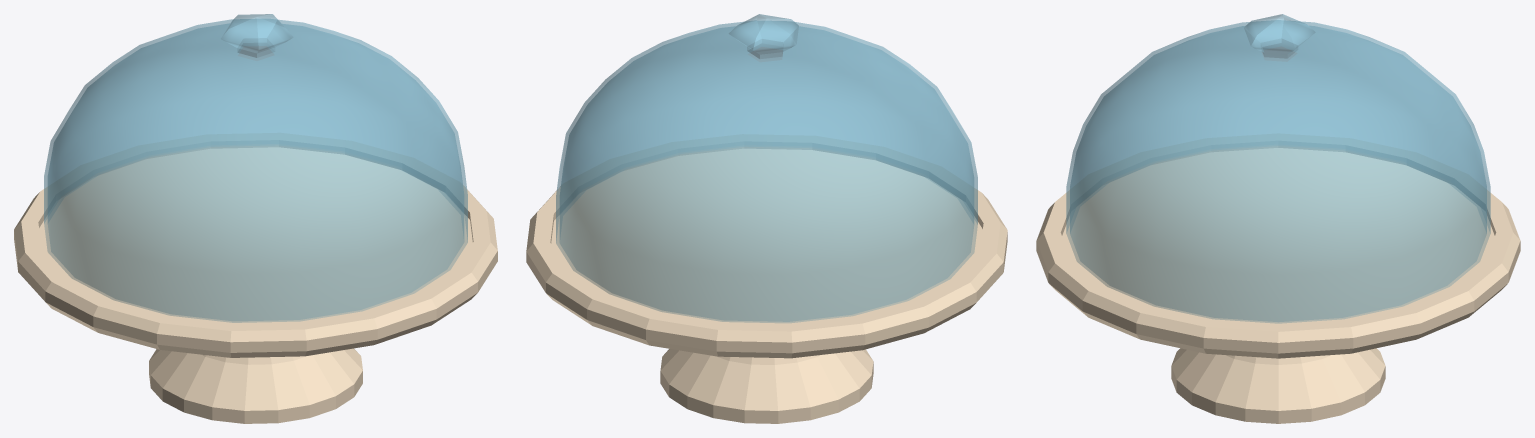
The model's file is PW_display02.fbx.
3 renders of one model, left to right at view 1: azimuth 30°, elevation 25°; view 2: azimuth 150°, elevation 25°; view 3: azimuth 270°, elevation 25°, orthographic.
Visible parts, largest first — view 1: glass, plate; view 2: glass, plate; view 3: glass, plate.
Boxes of the visible parts, x1,y1,x2,y2 form: glass: (44, 14, 467, 322); plate: (14, 133, 497, 423); glass: (556, 14, 977, 322); plate: (526, 134, 1007, 423); glass: (1066, 14, 1490, 323); plate: (1036, 134, 1520, 423).
Bounding box in the file's own units: 55.85 × 45.87 × 55.85.
Materials: 2 (1 with a texture image).
